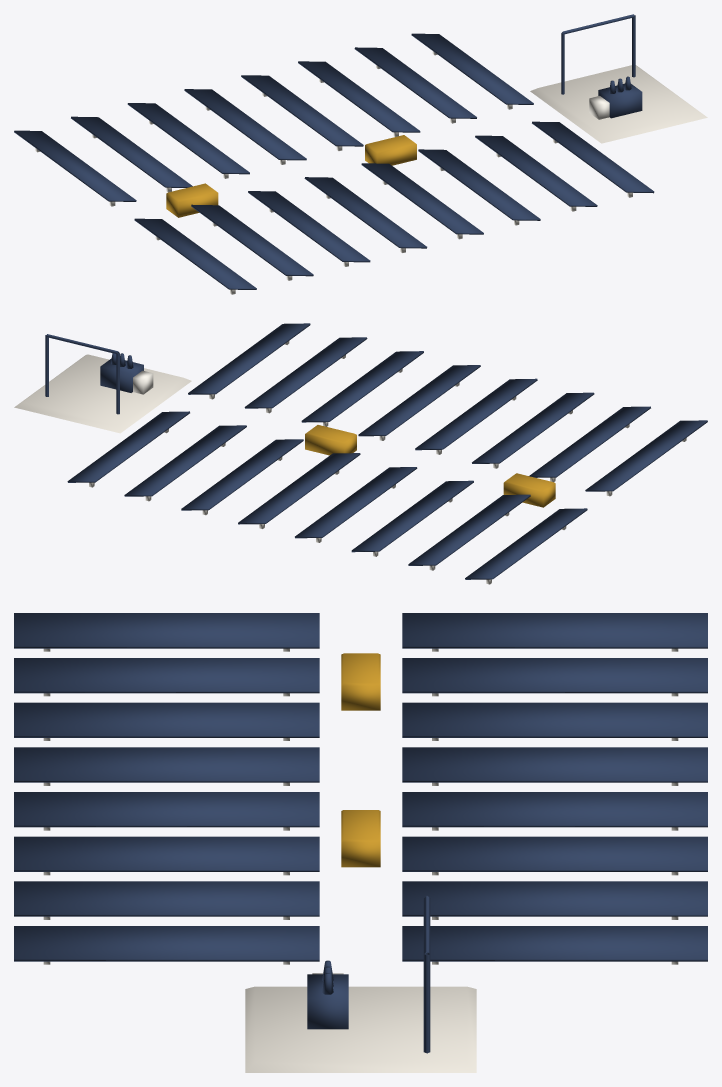
Rendered from solar.glb.
3 renders of one model, top to bottom at view 1: azimuth 30°, elevation 25°; view 2: azimuth 150°, elevation 25°; view 3: azimuth 270°, elevation 25°, orthographic. The views are drawn at different scales.
Parts seen in each view (by area): view 1: solar; view 2: solar; view 3: solar.
Boxes of the visible parts, x1,y1,x2,y2 form: solar: [14, 14, 707, 294]; solar: [14, 323, 707, 584]; solar: [14, 613, 707, 1072].
Bounding box in the file's own units: 124 × 14.36 × 84.
